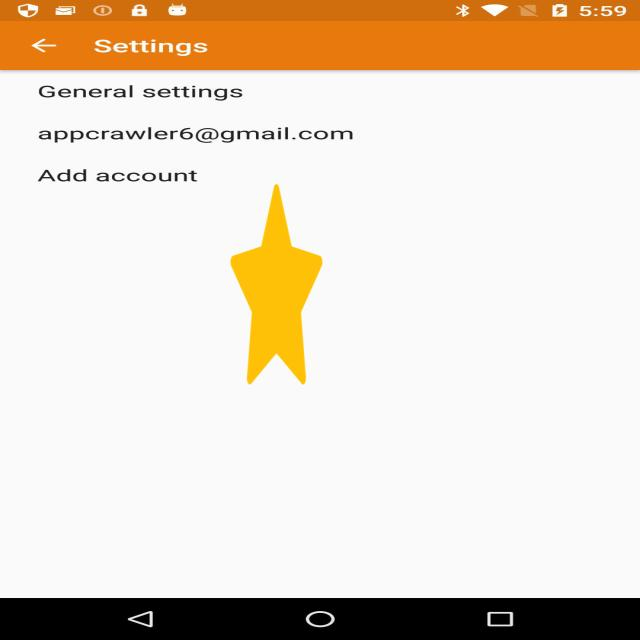forced continuity: (230, 184, 322, 385)
